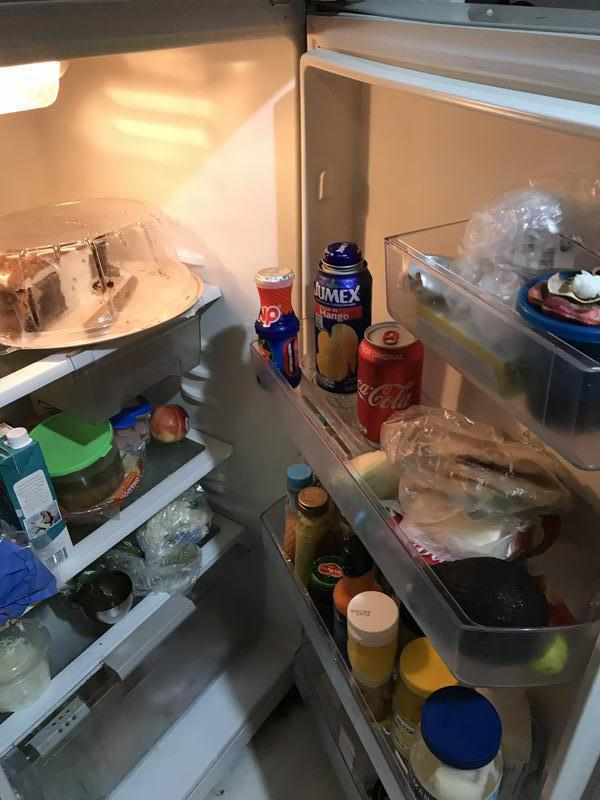coca_cola: (356, 322, 426, 443)
danup: (249, 265, 306, 392)
jugo_jumex: (310, 239, 376, 394)
